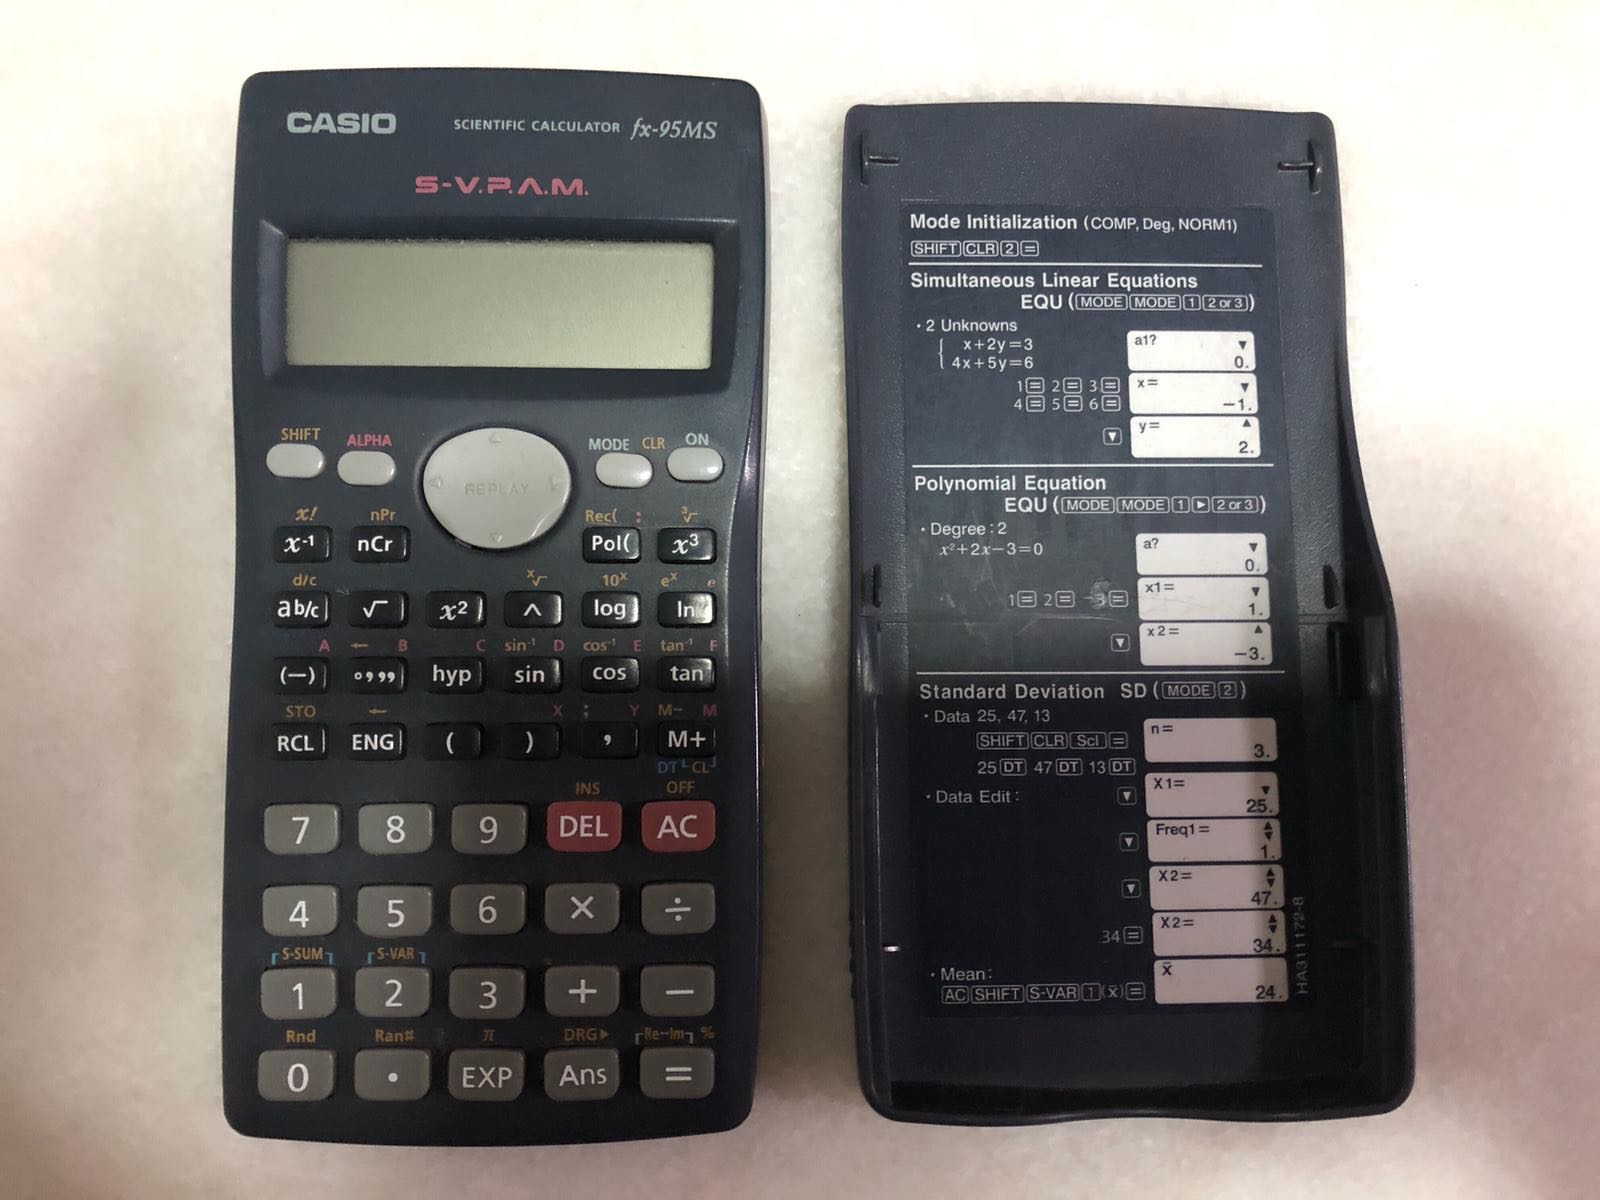Calculator: (210, 48, 784, 1147)
